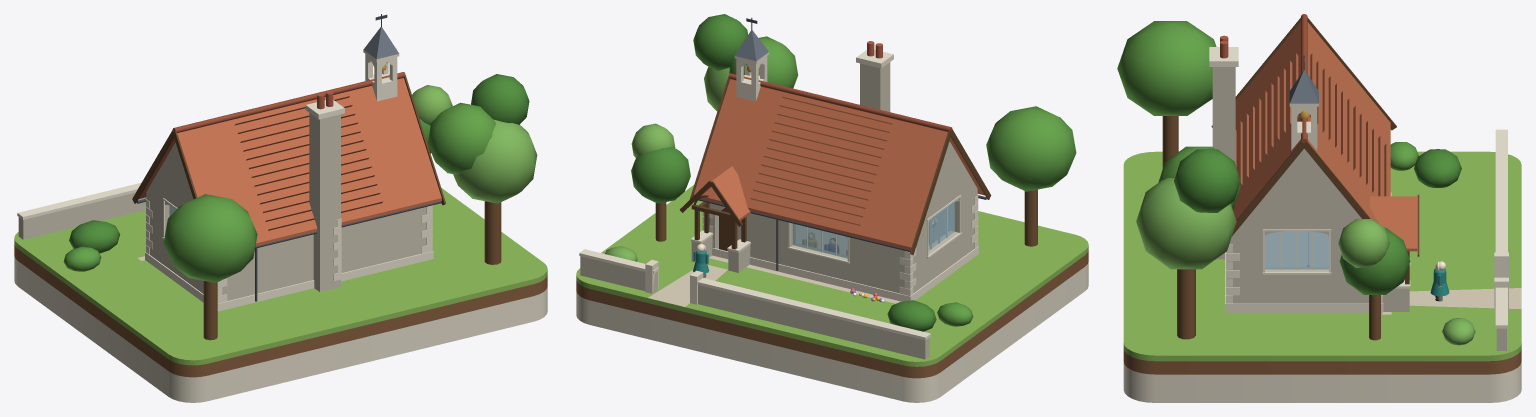
The model's file is school.glb.
3 views of the same model, side by side, from view 1: azimuth 30°, elevation 25°; view 2: azimuth 150°, elevation 25°; view 3: azimuth 270°, elevation 25° (orthographic). The views are drawn at different scales.
Visible parts, largest first — view 1: m_part_ground__grass, m_part_roof__tile_ink, m_part_ground__chalk, m_part_ground__leaf, m_part_walls_back__stone_ink, m_part_ground__soil, m_part_ground__leaf3, m_part_chimney__stone_ink, m_part_ground__leaf2, m_part_walls_west__stone_ink, m_part_roof__tile, m_part_ground__stone_ink (+9 smaller); view 2: m_part_roof__tile_ink, m_part_ground__grass, m_part_ground__chalk, m_part_ground__leaf, m_part_ground__soil, m_part_walls_front__stone_ink, m_part_ground__stone_ink, m_part_ground__leaf2, m_part_walls_west__stone_ink, m_part_ground__caen_ink, m_part_roof__tile, m_part_ground__leaf3 (+18 smaller); view 3: m_part_ground__grass, m_part_roof__tile_ink, m_part_ground__chalk, m_part_walls_east__stone_ink, m_part_ground__leaf, m_part_ground__leaf3, m_part_ground__leaf2, m_part_ground__soil, m_part_roof__tile, m_part_ground__caen_ink, m_part_ground__trunk, m_part_windows_east__glass (+12 smaller).
Part boxes in pixels (bbox=[...]): m_part_ground__grass: bbox=[14, 188, 547, 365]; m_part_roof__tile_ink: bbox=[139, 78, 441, 246]; m_part_ground__chalk: bbox=[14, 256, 547, 402]; m_part_ground__leaf: bbox=[63, 102, 495, 282]; m_part_walls_back__stone_ink: bbox=[218, 206, 431, 300]; m_part_ground__soil: bbox=[14, 244, 547, 377]; m_part_ground__leaf3: bbox=[412, 85, 537, 203]; m_part_chimney__stone_ink: bbox=[309, 113, 340, 291]; m_part_ground__leaf2: bbox=[69, 74, 529, 253]; m_part_walls_west__stone_ink: bbox=[146, 142, 203, 293]; m_part_roof__tile: bbox=[234, 96, 383, 230]; m_part_ground__stone_ink: bbox=[18, 192, 146, 239]; m_part_roof__tile_ink: bbox=[693, 79, 984, 249]; m_part_ground__grass: bbox=[576, 185, 1088, 366]; m_part_ground__chalk: bbox=[576, 262, 1088, 402]; m_part_ground__leaf: bbox=[729, 36, 1076, 326]; m_part_ground__soil: bbox=[576, 250, 1088, 378]; m_part_walls_front__stone_ink: bbox=[703, 203, 910, 293]; m_part_ground__stone_ink: bbox=[580, 256, 929, 359]; m_part_ground__leaf2: bbox=[631, 14, 936, 331]; m_part_walls_west__stone_ink: bbox=[900, 141, 977, 293]; m_part_ground__caen_ink: bbox=[579, 249, 930, 340]; m_part_roof__tile: bbox=[750, 96, 892, 225]; m_part_ground__leaf3: bbox=[605, 66, 729, 261]; m_part_ground__grass: bbox=[1123, 151, 1521, 361]; m_part_roof__tile_ink: bbox=[1233, 22, 1390, 223]; m_part_ground__chalk: bbox=[1123, 362, 1521, 402]; m_part_walls_east__stone_ink: bbox=[1226, 148, 1368, 303]; m_part_ground__leaf: bbox=[1117, 21, 1418, 209]; m_part_ground__leaf3: bbox=[1136, 178, 1475, 345]; m_part_ground__leaf2: bbox=[1174, 149, 1461, 294]; m_part_ground__soil: bbox=[1123, 349, 1521, 374]; m_part_roof__tile: bbox=[1235, 53, 1386, 196]; m_part_ground__caen_ink: bbox=[1494, 129, 1508, 328]; m_part_ground__trunk: bbox=[1162, 116, 1380, 340]; m_part_windows_east__glass: bbox=[1265, 231, 1328, 269].
Size of the model in its own units: 46.54 by 31.1 by 38.6.
